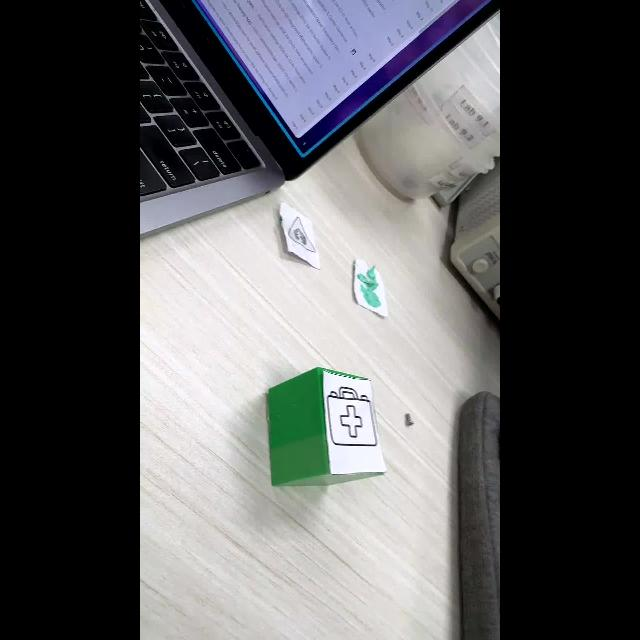Medkit: (326, 387, 377, 447)
